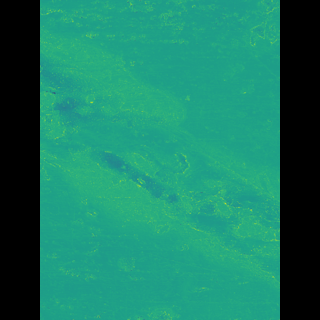Loch: (69, 27, 250, 293)
